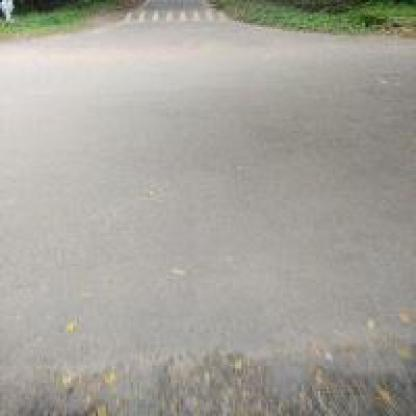Speed Bump: (123, 4, 243, 25)
